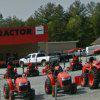Tractor: (33, 50, 100, 95)
